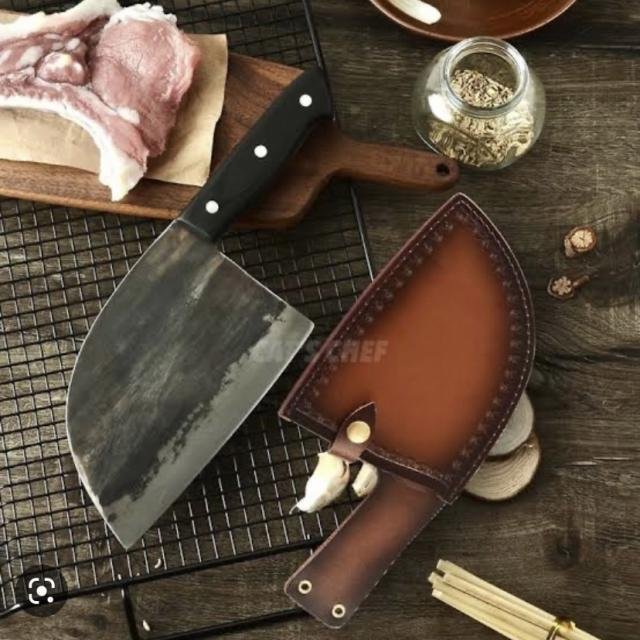Knife: (64, 54, 530, 636)
